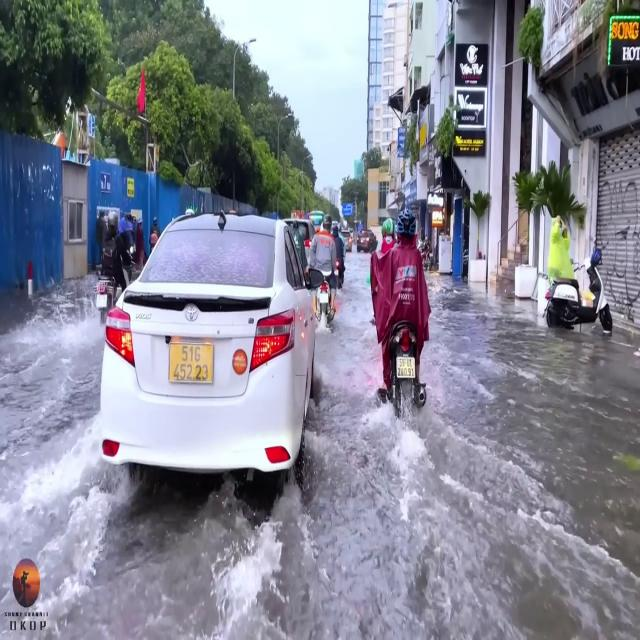bien_trang: (395, 354, 415, 380)
bien_vang: (166, 339, 214, 387)
